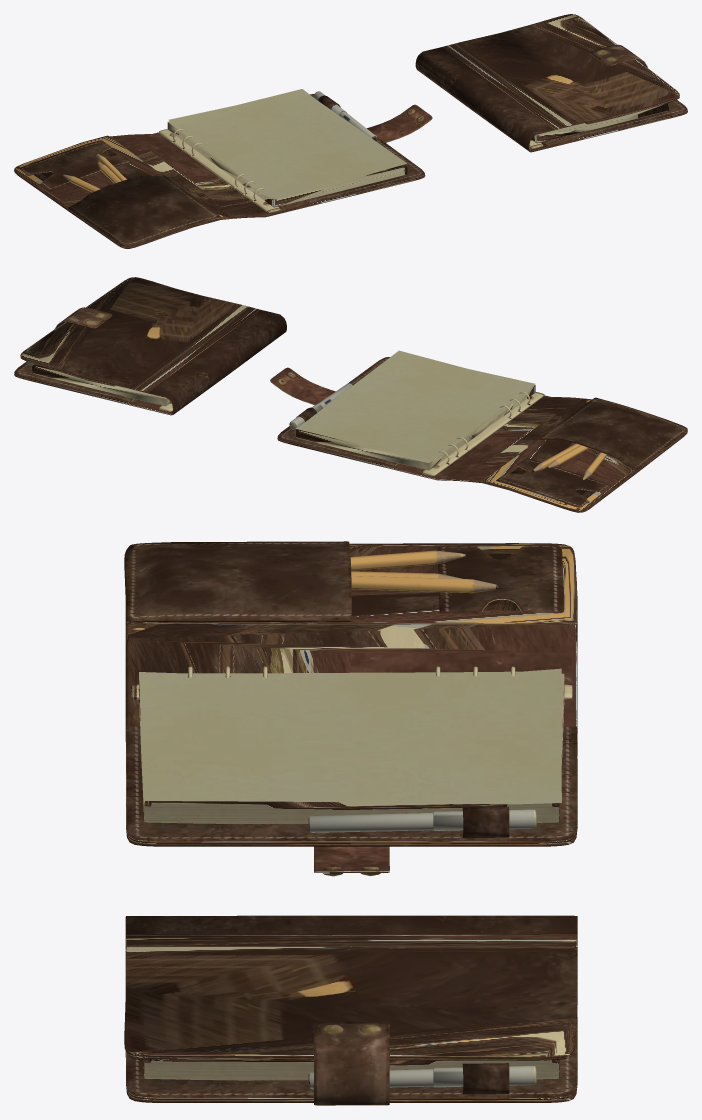
File: binder_notebook.glb
3 views of the same model, one above another, from view 1: azimuth 30°, elevation 25°; view 2: azimuth 150°, elevation 25°; view 3: azimuth 270°, elevation 25° (orthographic). The views are drawn at different scales.
Parts seen in each view (by area): view 1: binder_notebook, binder_notebook_closed; view 2: binder_notebook, binder_notebook_closed; view 3: binder_notebook, binder_notebook_closed.
Boxes of the visible parts, x1=… form: binder_notebook: x1=14, y1=89, x2=432, y2=248; binder_notebook_closed: x1=415, y1=14, x2=687, y2=152; binder_notebook: x1=270, y1=350, x2=687, y2=512; binder_notebook_closed: x1=14, y1=277, x2=286, y2=415; binder_notebook: x1=124, y1=541, x2=577, y2=876; binder_notebook_closed: x1=124, y1=915, x2=577, y2=1105.
Bounding box in the file's own units: 0.5838 × 0.0251 × 0.1999.
1 material, 1 textured.
